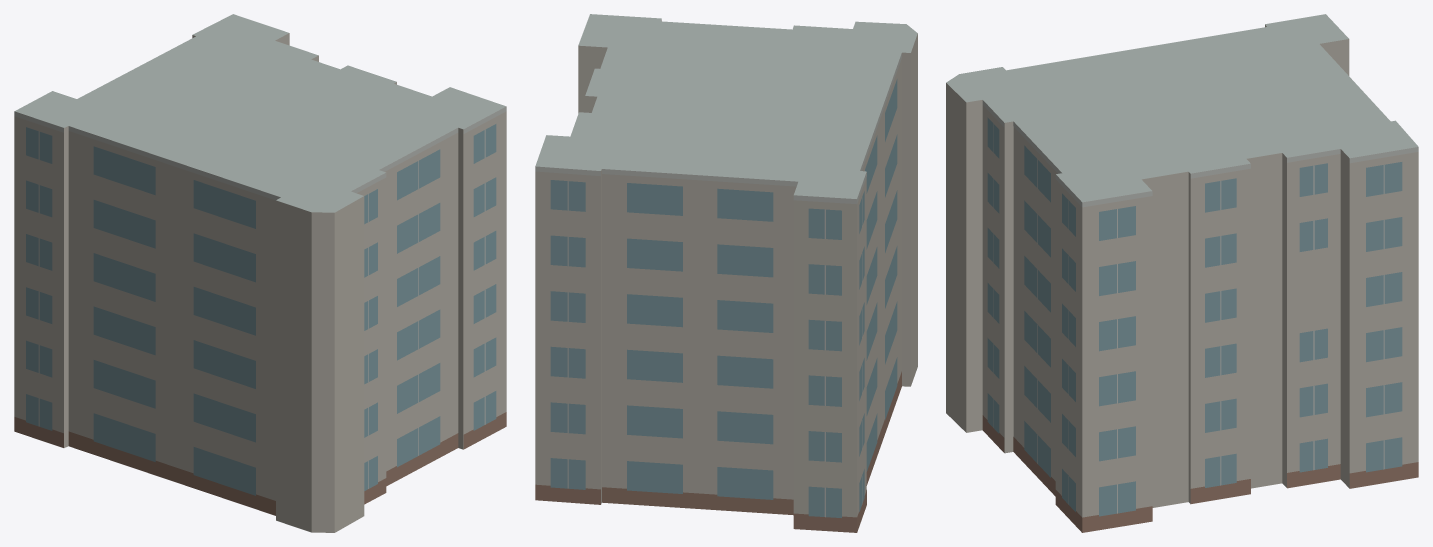
File: survey-upis-33031232.glb
3 renders of one model, left to right at view 1: azimuth 30°, elevation 25°; view 2: azimuth 150°, elevation 25°; view 3: azimuth 270°, elevation 25°, orthographic. The views are drawn at different scales.
Visible parts, largest first — view 1: survey-upis-33031232.tmp; view 2: survey-upis-33031232.tmp; view 3: survey-upis-33031232.tmp.
Part boxes in pixels (x1,y1,x2,y2): survey-upis-33031232.tmp: (14,14,506,532); survey-upis-33031232.tmp: (535,14,917,532); survey-upis-33031232.tmp: (946,14,1418,532).
Size of the model in its own units: 19.69 by 16.1 by 20.87.
